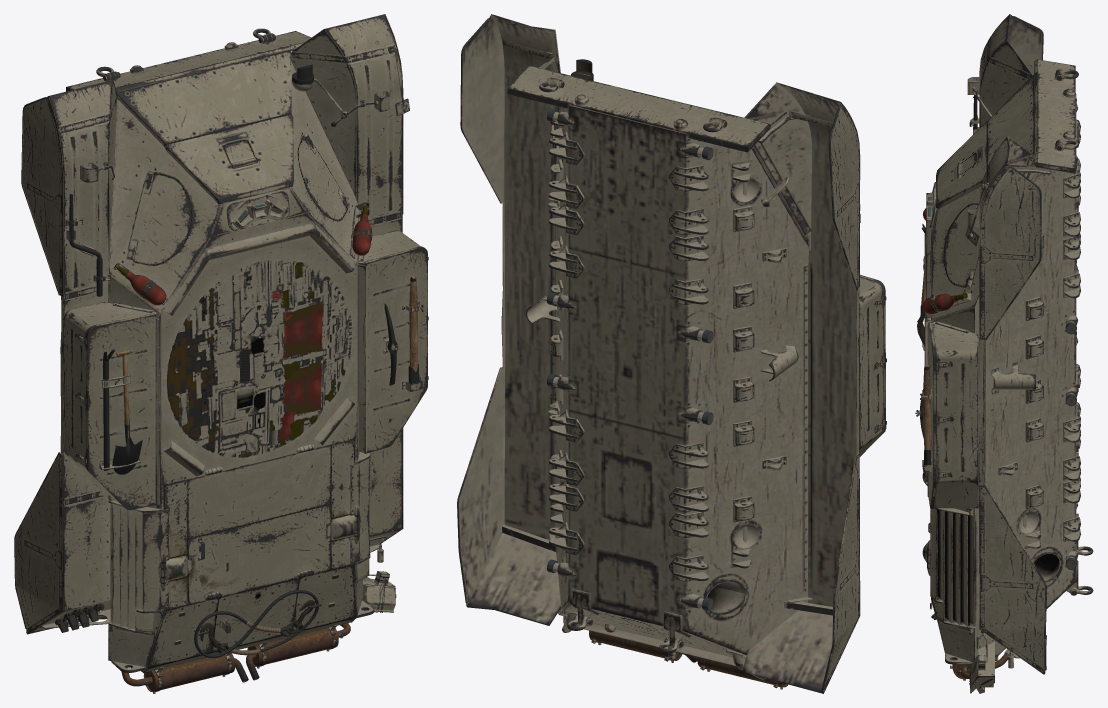
File: Hull.glb
The picture shows the model from 3 angles, left to right: view 1: azimuth 30°, elevation 25°; view 2: azimuth 150°, elevation 25°; view 3: azimuth 270°, elevation 25°; orthographic projection. The views are drawn at different scales.
Visible parts, largest first — view 1: set_0_group_0; view 2: set_0_group_0; view 3: set_0_group_0.
Part boxes in pixels (bbox=[...]): set_0_group_0: bbox=[14, 14, 428, 693]; set_0_group_0: bbox=[457, 14, 886, 693]; set_0_group_0: bbox=[915, 14, 1093, 693].
Size of the model in its own units: 2.73 by 4.36 by 1.26.
Materials: 1 (1 with a texture image).
